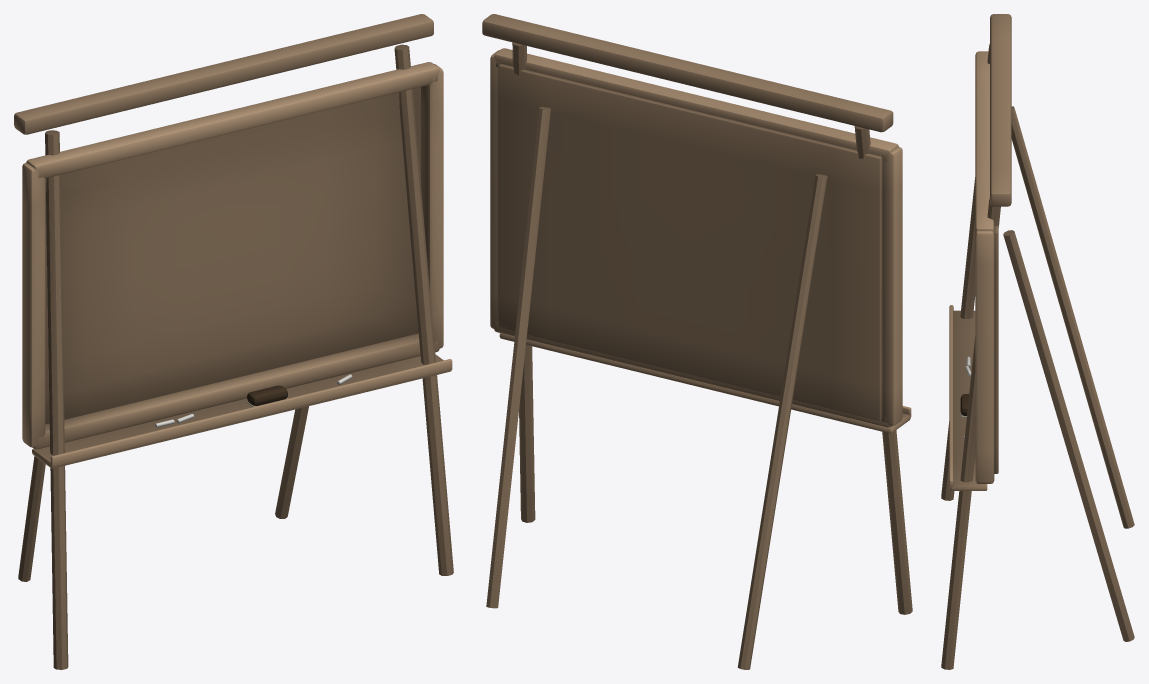
Rendered from obj_kit_blackboard.glb.
3 renders of one model, left to right at view 1: azimuth 30°, elevation 25°; view 2: azimuth 150°, elevation 25°; view 3: azimuth 270°, elevation 25°, orthographic. The views are drawn at different scales.
Visible parts, largest first — view 1: Cube.005, Cube, Cube.002, Cube.001, legF, legF.001, Cube.003, Cube.004, Cube.007, Cube.006, legB, legB.001; view 2: Cube.005, Cube, legB, legB.001, Cube.002, Cube.003, legF, legF.001, Cube.004, Cube.006, Cube.001; view 3: legB.001, legB, Cube.004, Cube, legF.001, Cube.006, Cube.002, legF, Cube.005, Cube.007.
Part boxes in pixels (<box>): Cube.005: <box>45,87,420,424</box>; Cube: <box>14,14,433,134</box>; Cube.002: <box>26,62,439,178</box>; Cube.001: <box>33,333,439,449</box>; legF: <box>45,130,68,669</box>; legF.001: <box>394,44,453,575</box>; Cube.003: <box>22,163,45,447</box>; Cube.004: <box>421,64,443,348</box>; Cube.007: <box>50,359,452,467</box>; Cube.006: <box>32,354,451,468</box>; legB: <box>18,456,45,581</box>; legB.001: <box>275,406,308,518</box>; Cube.005: <box>498,63,882,420</box>; Cube: <box>482,14,893,132</box>; legB: <box>737,174,827,669</box>; legB.001: <box>486,107,550,608</box>; Cube.002: <box>494,48,898,161</box>; Cube.003: <box>882,147,902,425</box>; legF: <box>854,126,912,614</box>; legF.001: <box>512,42,535,522</box>; Cube.004: <box>490,50,500,328</box>; Cube.006: <box>499,333,910,433</box>; Cube.001: <box>494,321,892,427</box>; legB.001: <box>1003,230,1134,641</box>; legB: <box>1011,106,1134,528</box>; Cube.004: <box>975,231,994,483</box>; Cube: <box>990,14,1011,206</box>; legF.001: <box>941,197,1000,669</box>; Cube.006: <box>950,310,987,490</box>; Cube.002: <box>975,51,994,232</box>; legF: <box>941,44,989,500</box>; Cube.005: <box>994,225,998,473</box>; Cube.007: <box>949,305,953,489</box>.
Size of the model in its own units: 1.61 by 1.99 by 0.7243.
